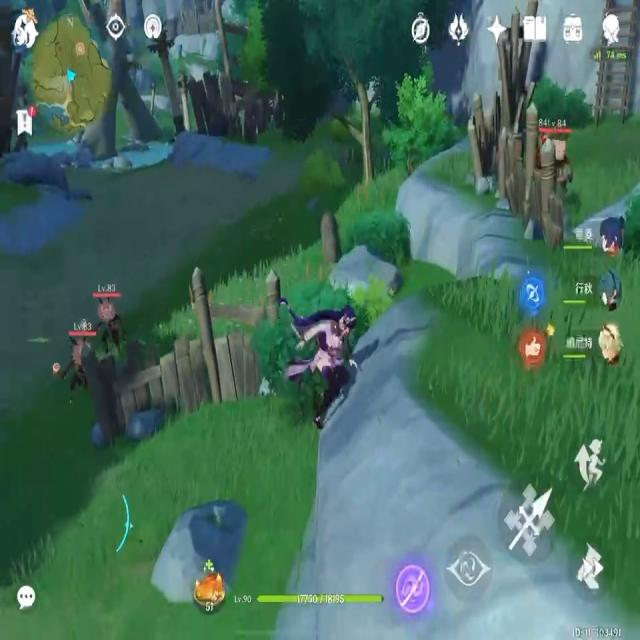genshin-hilichurls: (53, 326, 94, 398), (90, 289, 126, 344), (546, 128, 578, 183)
